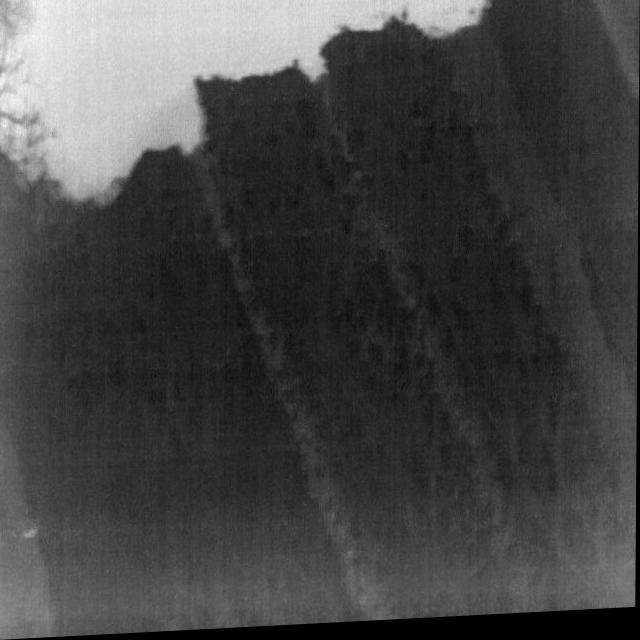deer: (24, 529, 39, 541)
